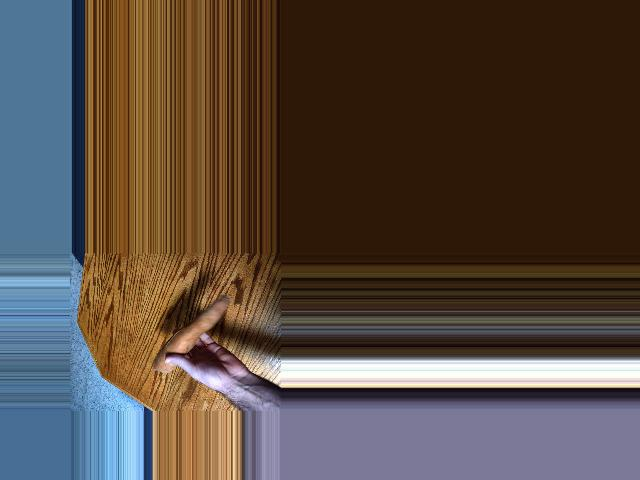sweet_potato: (155, 297, 228, 374)
